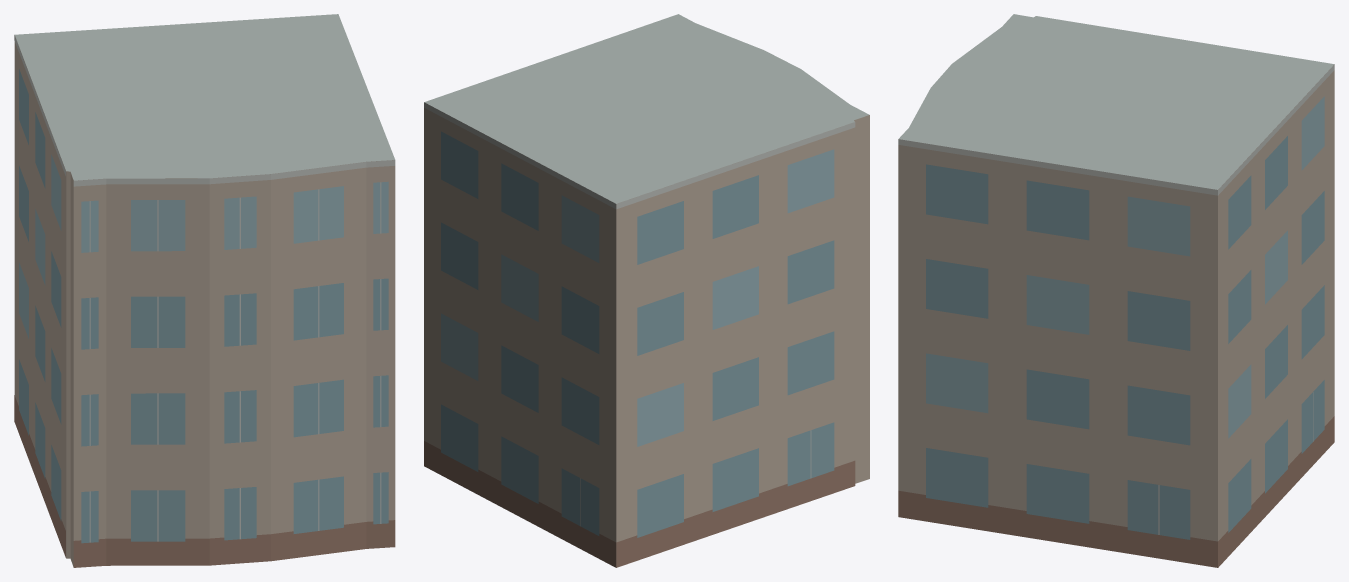
File: survey-upis-32495380.glb
3 renders of one model, left to right at view 1: azimuth 30°, elevation 25°; view 2: azimuth 150°, elevation 25°; view 3: azimuth 270°, elevation 25°, orthographic. The views are drawn at different scales.
Parts seen in each view (by area): view 1: survey-upis-32495380.tmp; view 2: survey-upis-32495380.tmp; view 3: survey-upis-32495380.tmp.
Part boxes in pixels (x1=…): survey-upis-32495380.tmp: x1=14, y1=14, x2=395, y2=567; survey-upis-32495380.tmp: x1=424, y1=14, x2=869, y2=567; survey-upis-32495380.tmp: x1=898, y1=14, x2=1334, y2=567.
Bounding box in the file's own units: 16.08 × 16.1 × 16.86.
